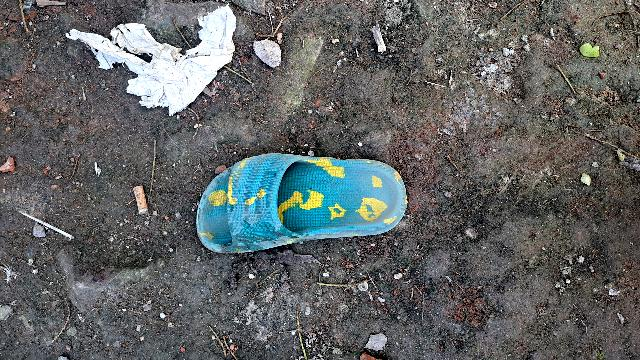sandal: (188, 151, 417, 269)
